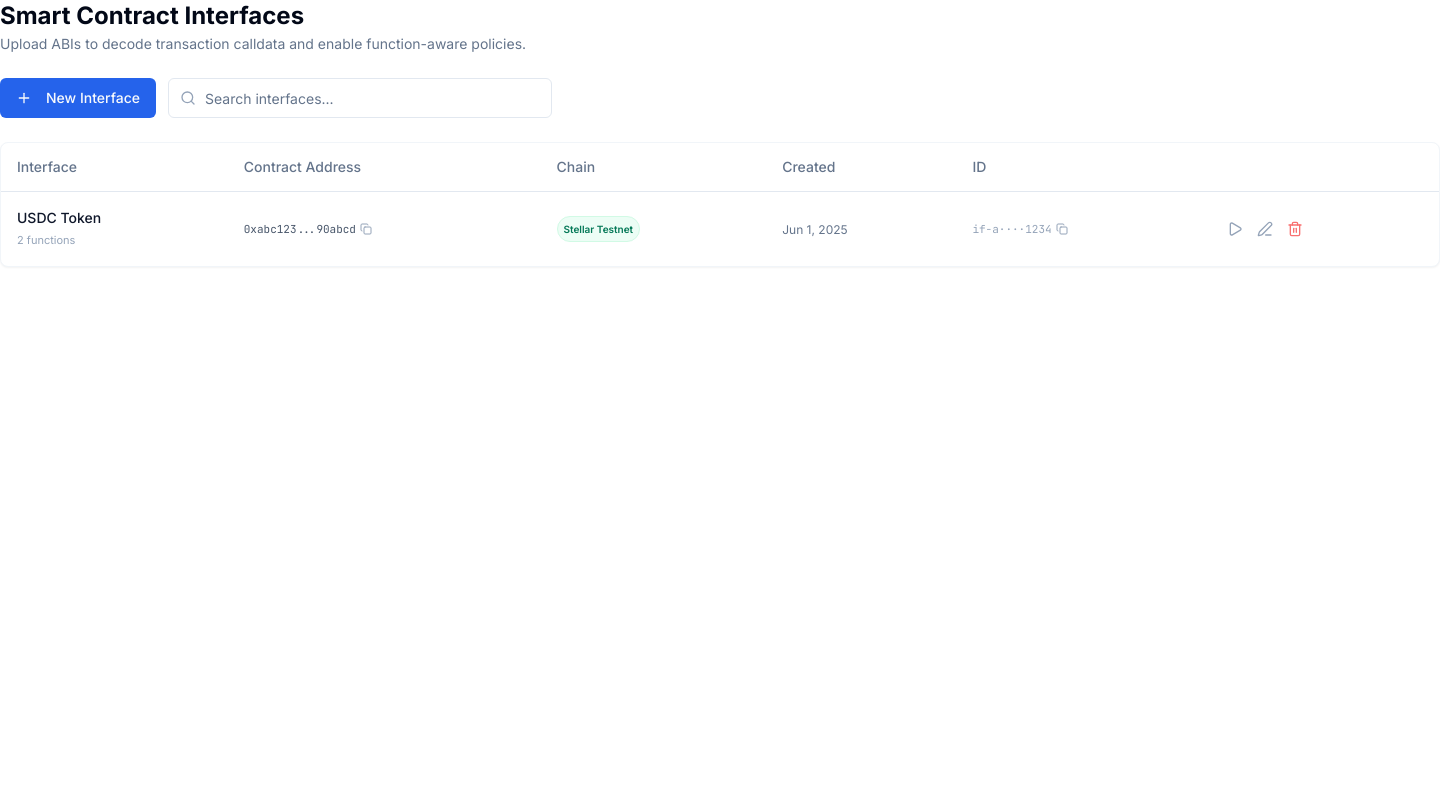
Test: Contract Interfaces Page › CRUD operations › updates interface via PATCH
This screenshot has width=1440, height=810.
Later steps or results of the test are not shown.
Expected: the text "USDC Token" is shown, [17,208,101,226]
Click the 5th button. click: (1265,228)
box: [1251,214,1279,242]
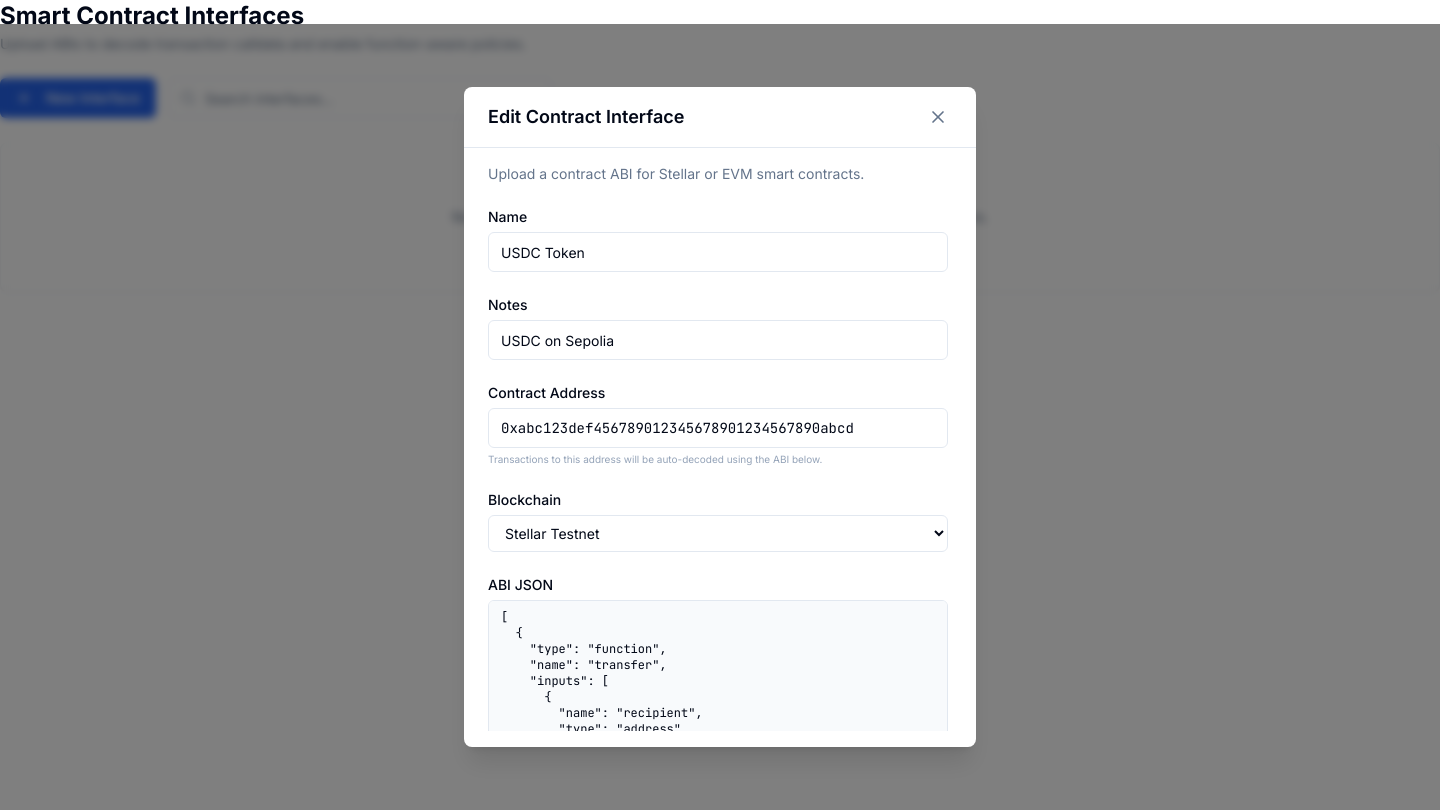
Expected: the heading "Edit Contract Interface" is shown, [488,103,684,131]
